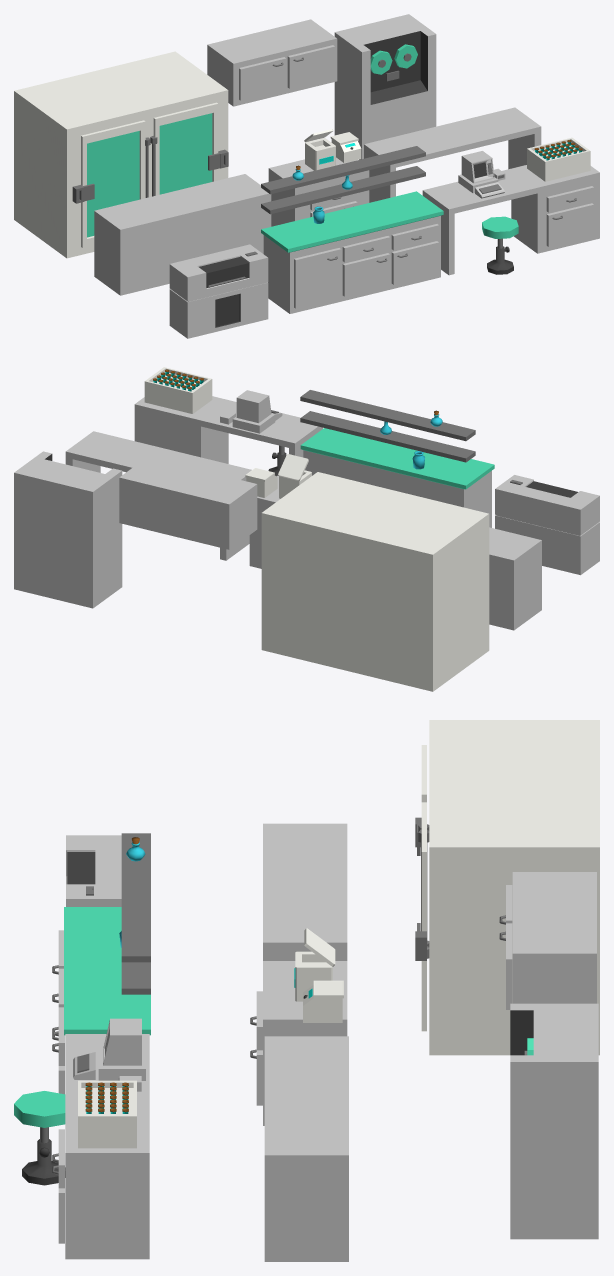
3 views of the same model, one above another, from view 1: azimuth 30°, elevation 25°; view 2: azimuth 150°, elevation 25°; view 3: azimuth 270°, elevation 25° (orthographic). The views are drawn at different scales.
Visible parts, largest first — view 1: frezzer_Cube.010, balcony_center_Cube.001, balcony_base_Cube.012, record_Cube.008, balcony_seat_Cube.004, air_balcony_Cube.011, balcony_printer_Cube.005, balcony_table_Cube.013, balcony_bidet_Cube.014, box_samples_Cube.009, computer_Cube.006, chair_Cylinder.003 (+3 smaller); view 2: frezzer_Cube.010, record_Cube.008, balcony_center_Cube.001, air_balcony_Cube.011, balcony_printer_Cube.005, balcony_seat_Cube.004, balcony_base_Cube.012, balcony_table_Cube.013, box_samples_Cube.009, computer_Cube.006, mix_samples_2_Cube.003, balcony_bidet_Cube.014 (+2 smaller); view 3: frezzer_Cube.010, record_Cube.008, balcony_table_Cube.013, balcony_center_Cube.001, balcony_seat_Cube.004, air_balcony_Cube.011, balcony_base_Cube.012, balcony_bidet_Cube.014, balcony_printer_Cube.005, box_samples_Cube.009, computer_Cube.006, chair_Cylinder.003 (+3 smaller).
Boxes of the visible parts, x1,y1,x2,y2 form: frezzer_Cube.010: (14, 51, 228, 258); balcony_center_Cube.001: (261, 146, 443, 313); balcony_base_Cube.012: (94, 174, 271, 295); record_Cube.008: (334, 14, 436, 159); balcony_seat_Cube.004: (422, 165, 599, 275); air_balcony_Cube.011: (207, 19, 337, 106); balcony_printer_Cube.005: (169, 244, 268, 338); balcony_table_Cube.013: (364, 107, 541, 202); balcony_bidet_Cube.014: (268, 157, 369, 226); box_samples_Cube.009: (527, 137, 590, 181); computer_Cube.006: (458, 151, 505, 198); chair_Cylinder.003: (482, 216, 518, 274); frezzer_Cube.010: (261, 472, 489, 691); record_Cube.008: (14, 451, 122, 608); balcony_center_Cube.001: (300, 390, 494, 527); air_balcony_Cube.011: (119, 457, 257, 549); balcony_printer_Cube.005: (495, 475, 599, 575); balcony_seat_Cube.004: (134, 396, 322, 463); balcony_base_Cube.012: (489, 527, 541, 630); balcony_table_Cube.013: (65, 431, 251, 560); box_samples_Cube.009: (144, 367, 212, 413); computer_Cube.006: (220, 390, 282, 433); mix_samples_2_Cube.003: (278, 454, 311, 498); balcony_bidet_Cube.014: (249, 475, 279, 568); frezzer_Cube.010: (415, 720, 599, 1055); record_Cube.008: (510, 1003, 598, 1239); balcony_table_Cube.013: (264, 1036, 348, 1261); balcony_center_Cube.001: (52, 833, 150, 1094); balcony_seat_Cube.004: (52, 1034, 149, 1259); air_balcony_Cube.011: (499, 872, 596, 1009); balcony_base_Cube.012: (263, 823, 347, 960); balcony_bidet_Cube.014: (250, 961, 347, 1125); balcony_printer_Cube.005: (66, 835, 121, 906); box_samples_Cube.009: (78, 1080, 136, 1148); computer_Cube.006: (73, 1018, 145, 1091); chair_Cylinder.003: (14, 1091, 65, 1185).
Bounding box in the file's own units: 1868 × 544 × 1387.
